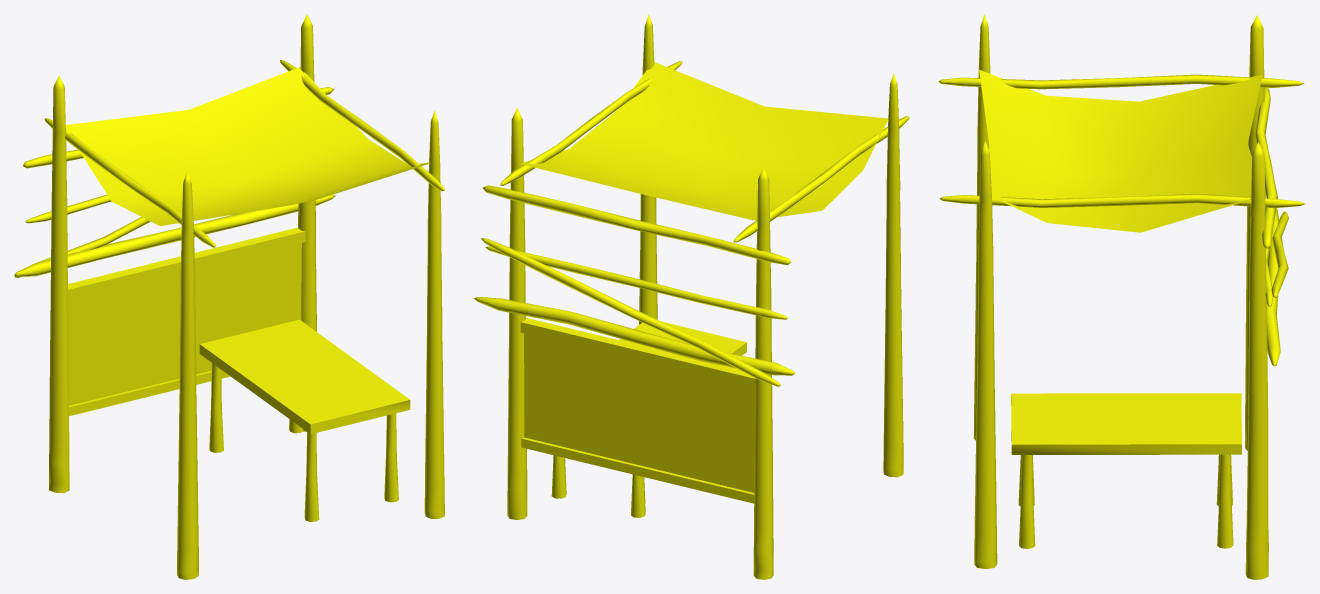
File: gaint_builda_06.glb
The picture shows the model from 3 angles, left to right: view 1: azimuth 30°, elevation 25°; view 2: azimuth 150°, elevation 25°; view 3: azimuth 270°, elevation 25°; orthographic projection. The views are drawn at different scales.
Parts seen in each view (by area): view 1: Object01, Object; view 2: Object01, Object; view 3: Object01, Object.
Boxes of the visible parts, x1,y1,x2,y2 form: Object01: (65, 67, 430, 434); Object: (14, 14, 444, 579); Object01: (520, 62, 888, 503); Object: (473, 14, 909, 579); Object01: (979, 69, 1262, 454); Object: (938, 14, 1305, 579).
Bounding box in the file's own units: 9.95 × 12.13 × 9.33.
Materials: 2 (2 with a texture image).
